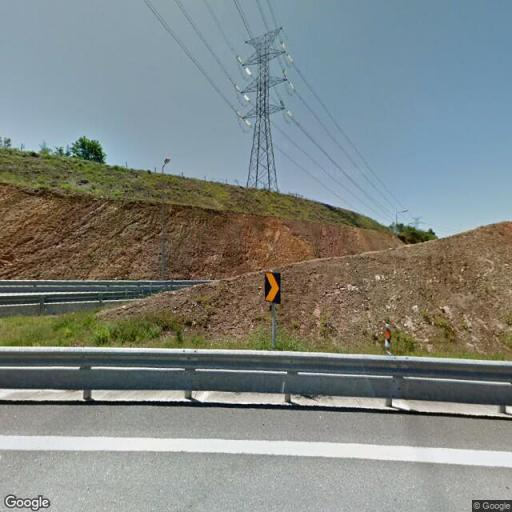ss_3: (239, 25, 290, 191)
